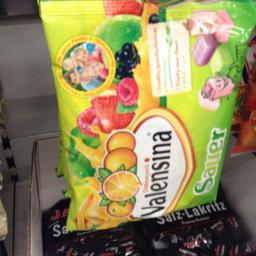candy: (44, 2, 246, 222)
